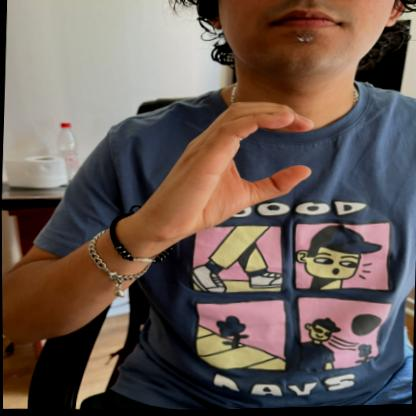C: (165, 91, 322, 237)
